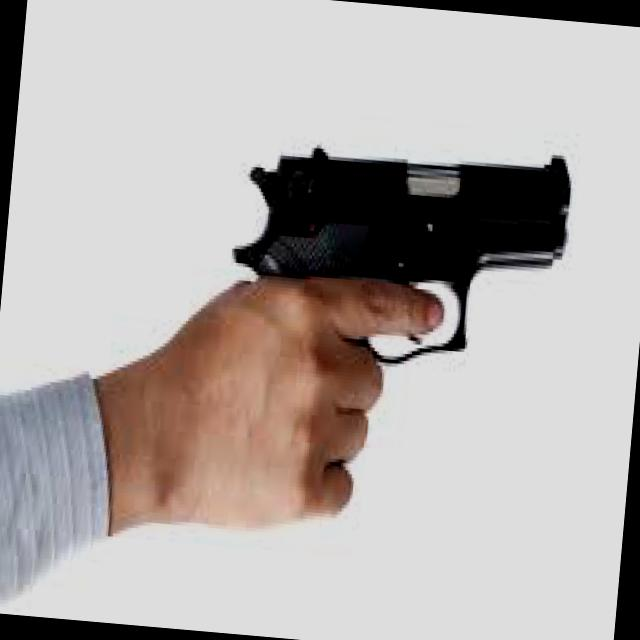handgun: (227, 121, 573, 387)
